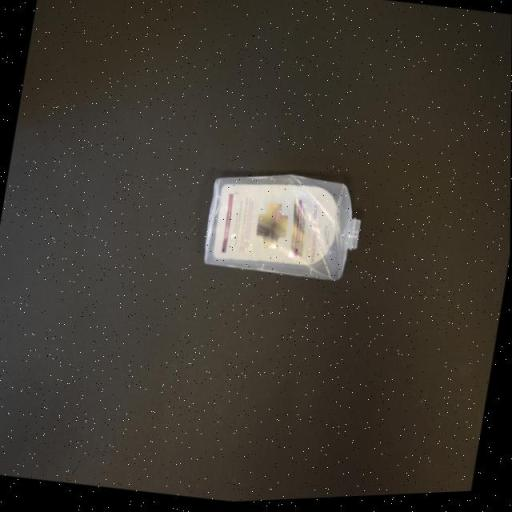plastic: (201, 160, 371, 298)
